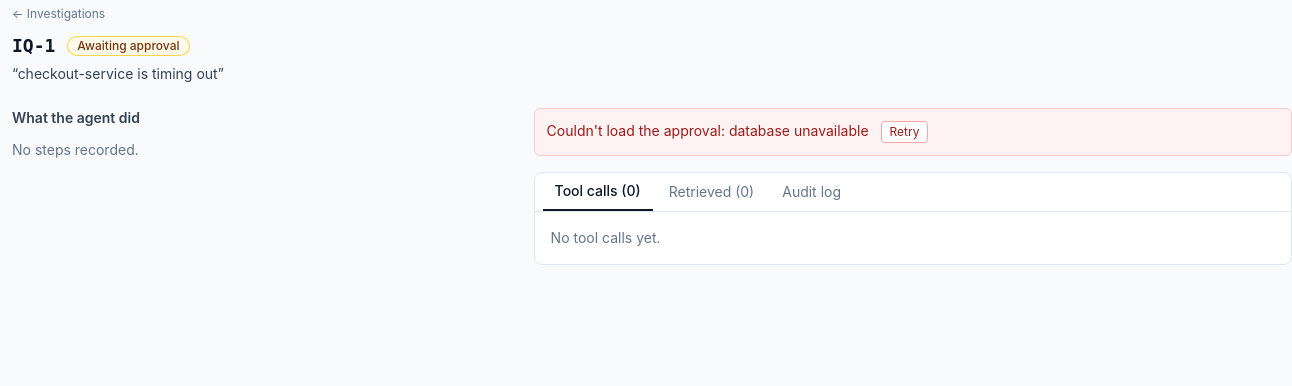
shows a failed approval load with a retry, and recovers without the investigation changing
Expected: the message shows "Couldn't load the approval: database unavailable", top-left (534, 108), bottom-right (1291, 156)
Click the button "Retry": click(905, 132) top-left (881, 121), bottom-right (928, 143)
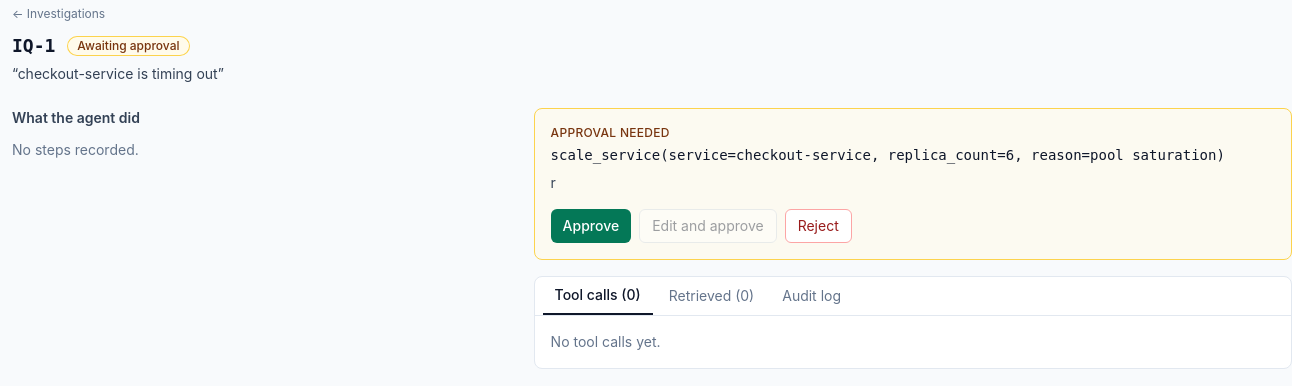
Result: the text "Approval needed" is shown at top-left (551, 125), bottom-right (670, 140)
Result: the button "Approve" is shown at top-left (551, 209), bottom-right (631, 243)
